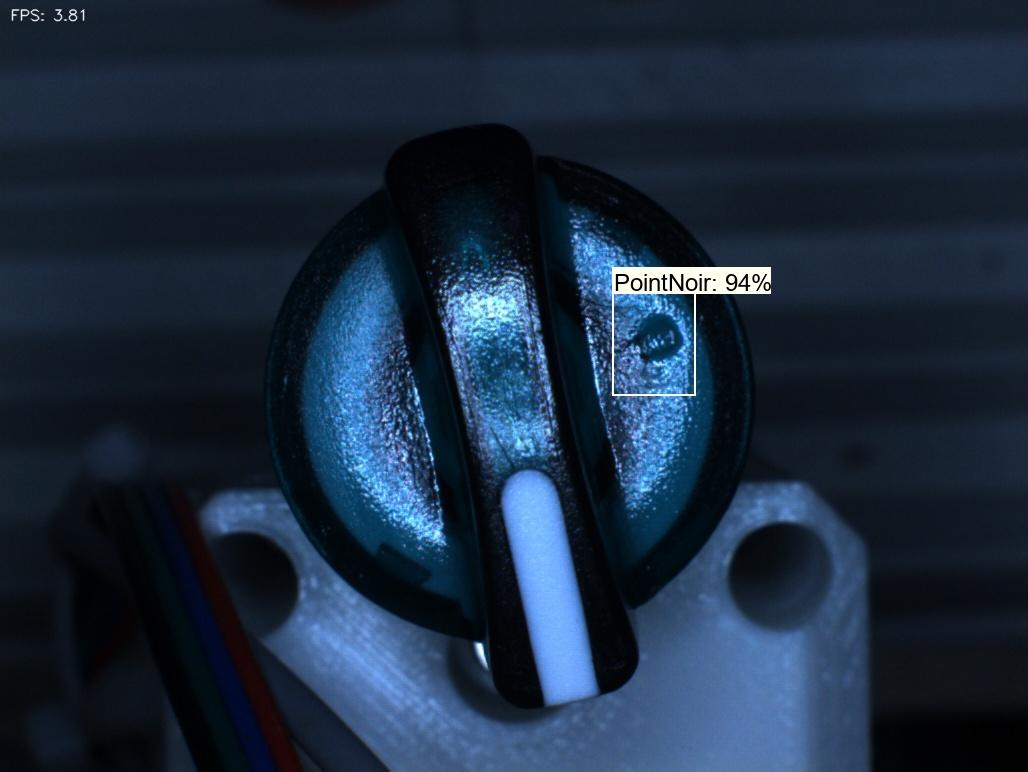Choc: (616, 297, 703, 387)
